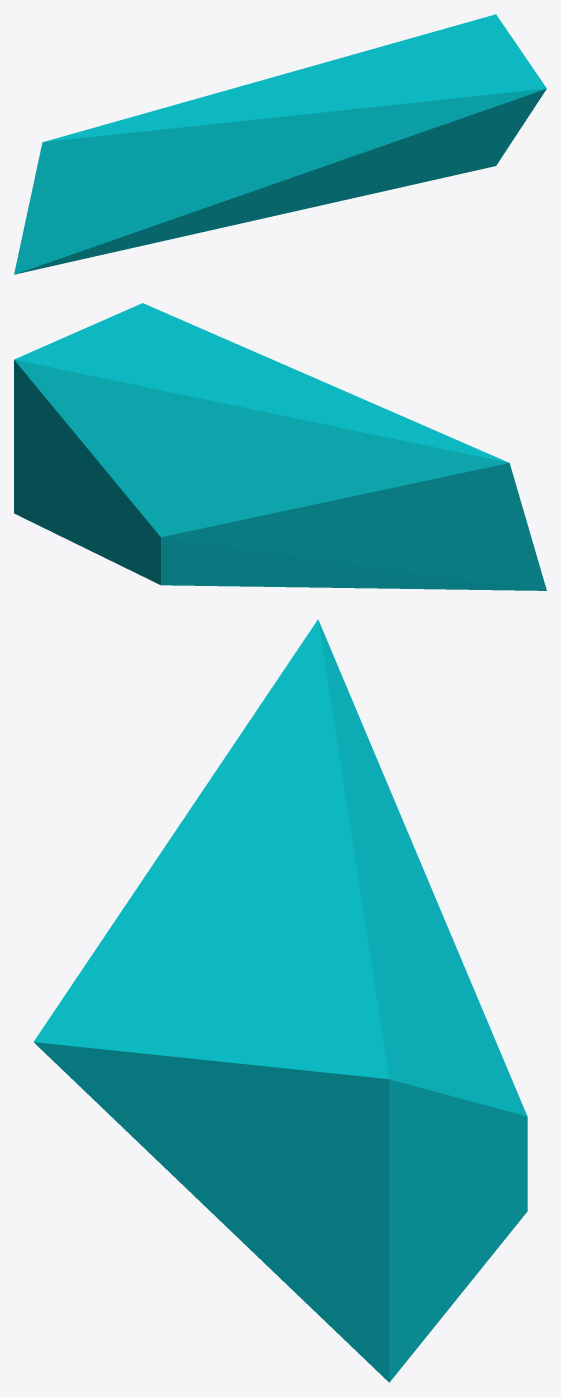
Rendered from coffee_convex_piece_023.obj.
3 renders of one model, top to bottom at view 1: azimuth 30°, elevation 25°; view 2: azimuth 150°, elevation 25°; view 3: azimuth 270°, elevation 25°, orthographic. The views are drawn at different scales.
Bounding box in the file's own units: 0.000278 × 8.1e-05 × 0.000118.
